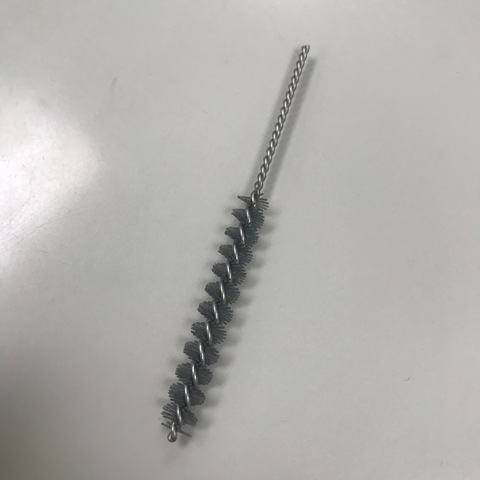Twist Brush-A: (164, 42, 316, 444)
